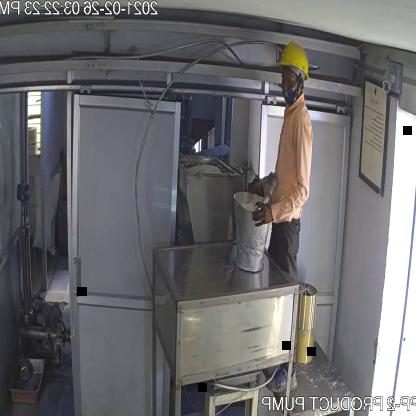helmet: (276, 38, 312, 84)
